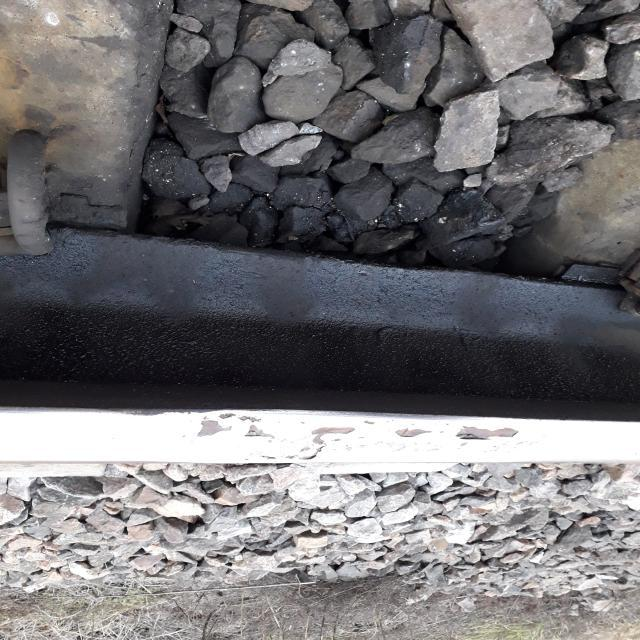broken_rail_medium: (300, 426, 359, 462), (457, 425, 520, 442), (197, 418, 233, 438), (394, 427, 434, 439), (242, 425, 274, 439), (239, 415, 262, 423), (259, 455, 277, 463), (218, 413, 236, 420), (362, 420, 378, 426), (284, 455, 300, 460), (459, 442, 467, 448)
